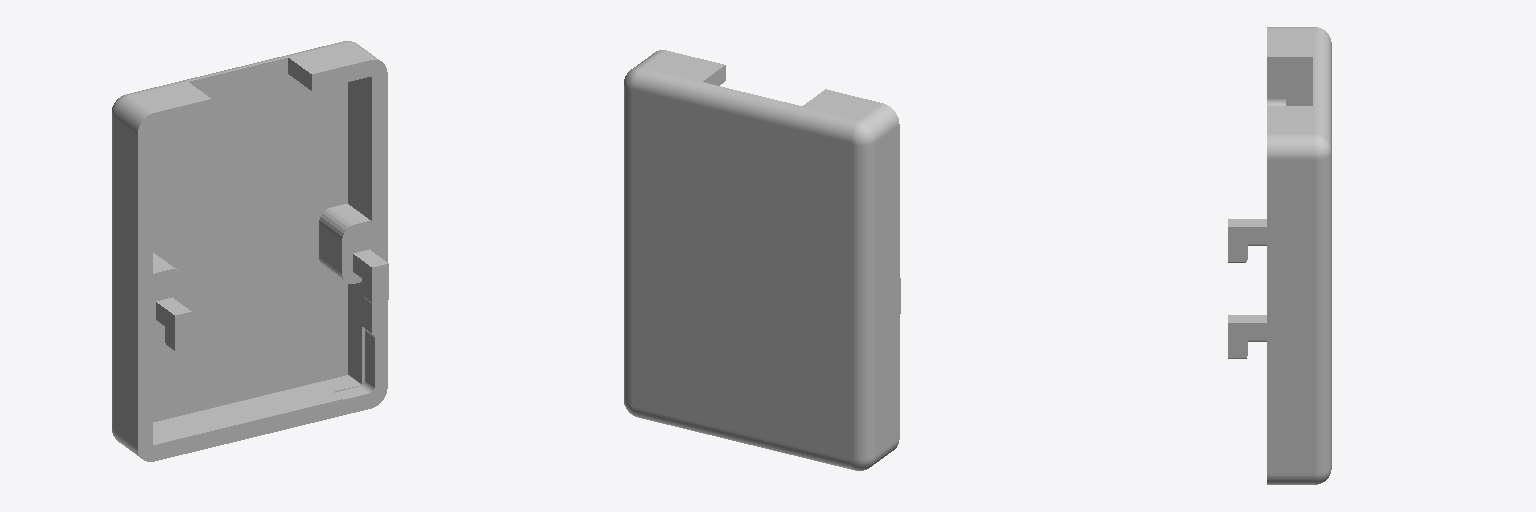
The model's file is back case.obj.
The picture shows the model from 3 angles: view 1: azimuth 30°, elevation 25°; view 2: azimuth 150°, elevation 25°; view 3: azimuth 270°, elevation 25°; orthographic projection.
Visible parts, largest first — view 1: Body1; view 2: Body1; view 3: Body1.
Boxes of the visible parts, x1=… form: Body1: x1=112, y1=41, x2=388, y2=461; Body1: x1=624, y1=50, x2=900, y2=470; Body1: x1=1228, y1=27, x2=1331, y2=484.
Size of the model in its own units: 0.03 by 0.04 by 0.0108.